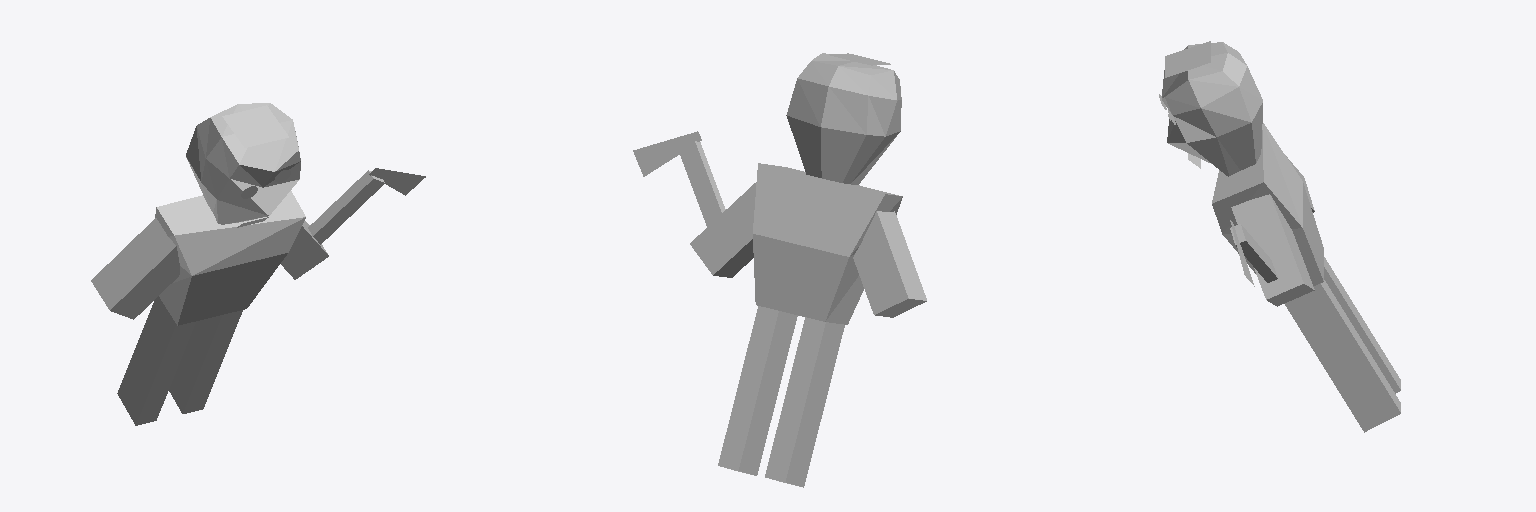
The model's file is axeman1d.obj.
3 views of the same model, side by side, from view 1: azimuth 30°, elevation 25°; view 2: azimuth 150°, elevation 25°; view 3: azimuth 270°, elevation 25° (orthographic).
Visible parts, largest first — view 1: Cube.001, Cube, Cube.004, Cube.003, Cube.005, Cube.007, Plane.002, Cube.002, Plane.001; view 2: Cube.001, Cube, Cube.004, Cube.005, Cube.003, Cube.002, Cube.007, Plane.001; view 3: Cube, Cube.005, Cube.001, Cube.002, Cube.004, Cube.007, Plane.002.
Boxes of the visible parts, <box> form: Cube.001: <box>155,191,305,325</box>; Cube: <box>186,103,300,224</box>; Cube.004: <box>117,296,195,425</box>; Cube.003: <box>91,218,179,319</box>; Cube.005: <box>169,310,242,413</box>; Cube.007: <box>308,170,384,244</box>; Plane.002: <box>222,105,288,147</box>; Cube.002: <box>281,221,328,279</box>; Plane.001: <box>369,168,425,195</box>; Cube.001: <box>753,163,902,324</box>; Cube: <box>786,53,901,184</box>; Cube.004: <box>765,317,844,487</box>; Cube.005: <box>718,306,797,475</box>; Cube.003: <box>853,211,926,317</box>; Cube.002: <box>690,182,756,277</box>; Cube.007: <box>678,141,725,226</box>; Plane.001: <box>633,131,701,176</box>; Cube: <box>1162,42,1262,176</box>; Cube.005: <box>1285,280,1400,432</box>; Cube.001: <box>1212,123,1323,285</box>; Cube.002: <box>1231,194,1314,306</box>; Cube.004: <box>1324,257,1400,393</box>; Cube.007: <box>1230,224,1277,282</box>; Plane.002: <box>1165,41,1210,77</box>.
Size of the model in its own units: 5.1 by 5.79 by 3.5.